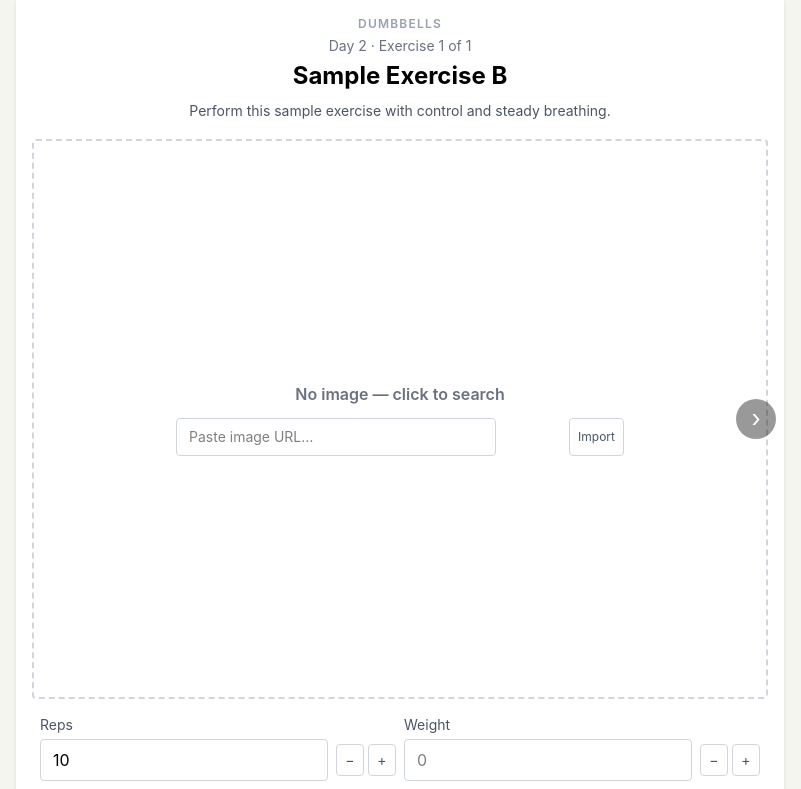
Test: App › shows a summary with saved reps and weight after finishing
In the number field named "Set 1 weight": (548, 760) [404,739,692,781], type "50"
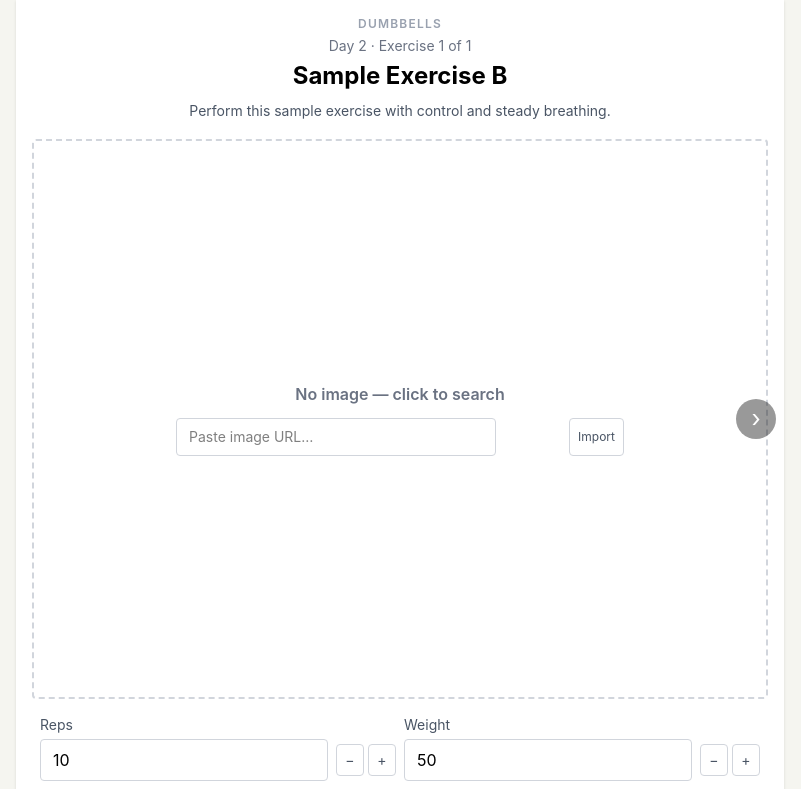
Click the button named "Finish": (756, 419) [736,399,776,439]
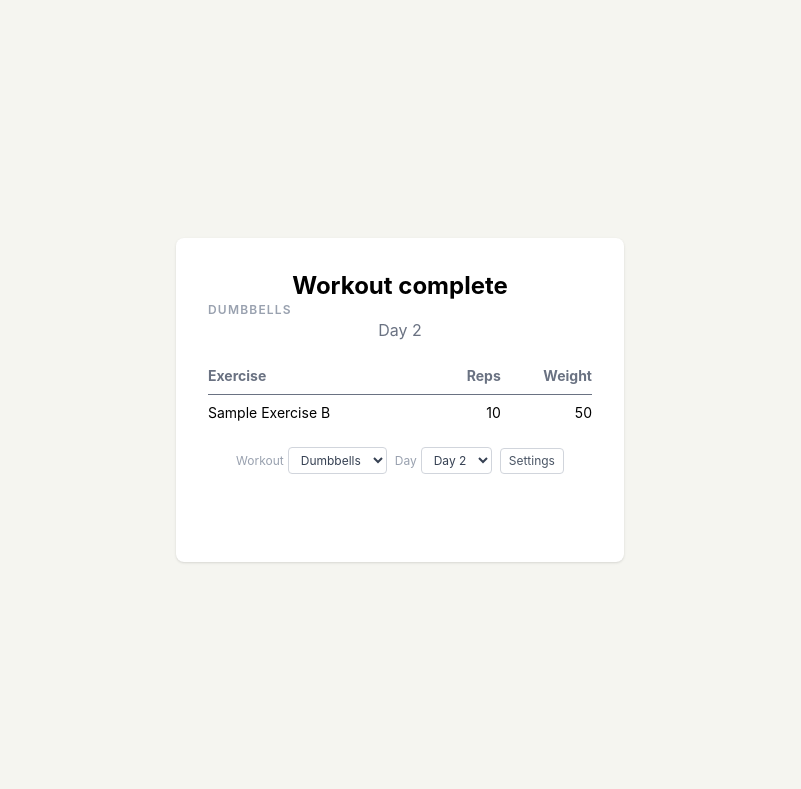
Result: the heading "Workout complete" is shown at [292,271,508,300]
Result: the text "10" is shown once at [437,394,501,431]
Result: the text "50" is shown once at [501,394,592,431]
